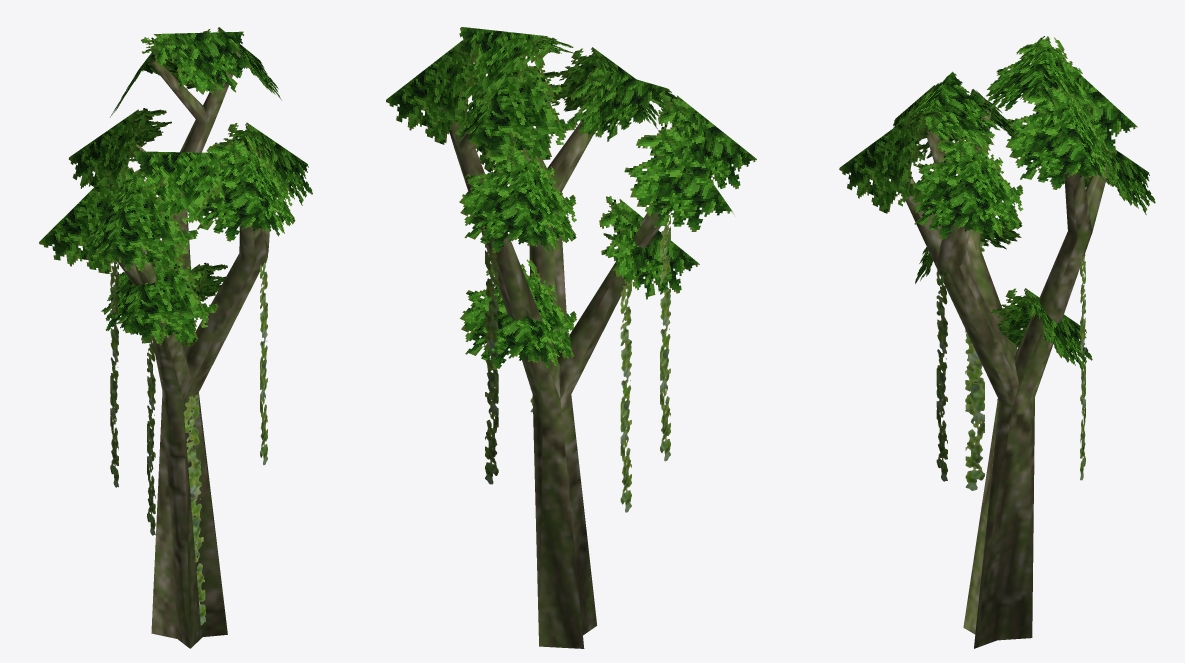
File: tropic_1.obj
3 views of the same model, side by side, from view 1: azimuth 30°, elevation 25°; view 2: azimuth 150°, elevation 25°; view 3: azimuth 270°, elevation 25° (orthographic). The views are drawn at different scales.
Parts seen in each view (by area): view 1: tropic_1; view 2: tropic_1; view 3: tropic_1.
Boxes of the visible parts, <box> form: tropic_1: <box>39,27,312,648</box>; tropic_1: <box>386,27,756,648</box>; tropic_1: <box>839,36,1155,648</box>.
Bounding box in the file's own units: 5.95 × 10.63 × 5.72.
